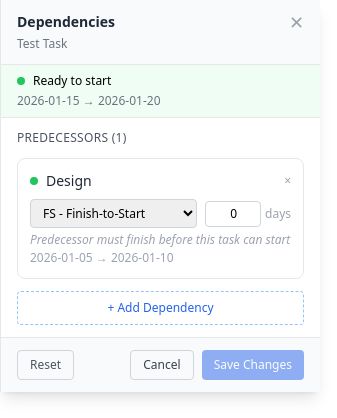
Test: DependencyDrawer › removes a dependency when × button clicked
# Click remove button
Click the button titled "Remove dependency" at x=288, y=181, box [284,173,291,189]
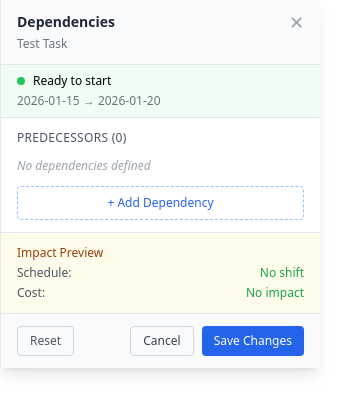
expect the text "No dependencies defined" is shown: met, box [17,157,151,174]
